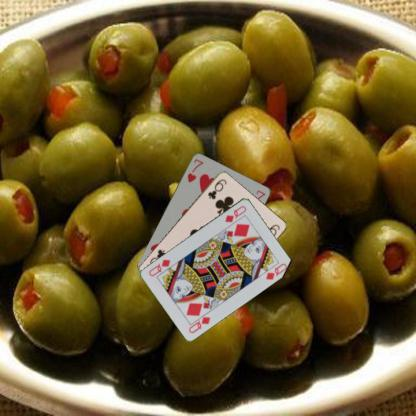6c: (205, 176, 228, 201)
7h: (185, 156, 204, 184)
Qd: (186, 309, 212, 335), (223, 202, 247, 223)
